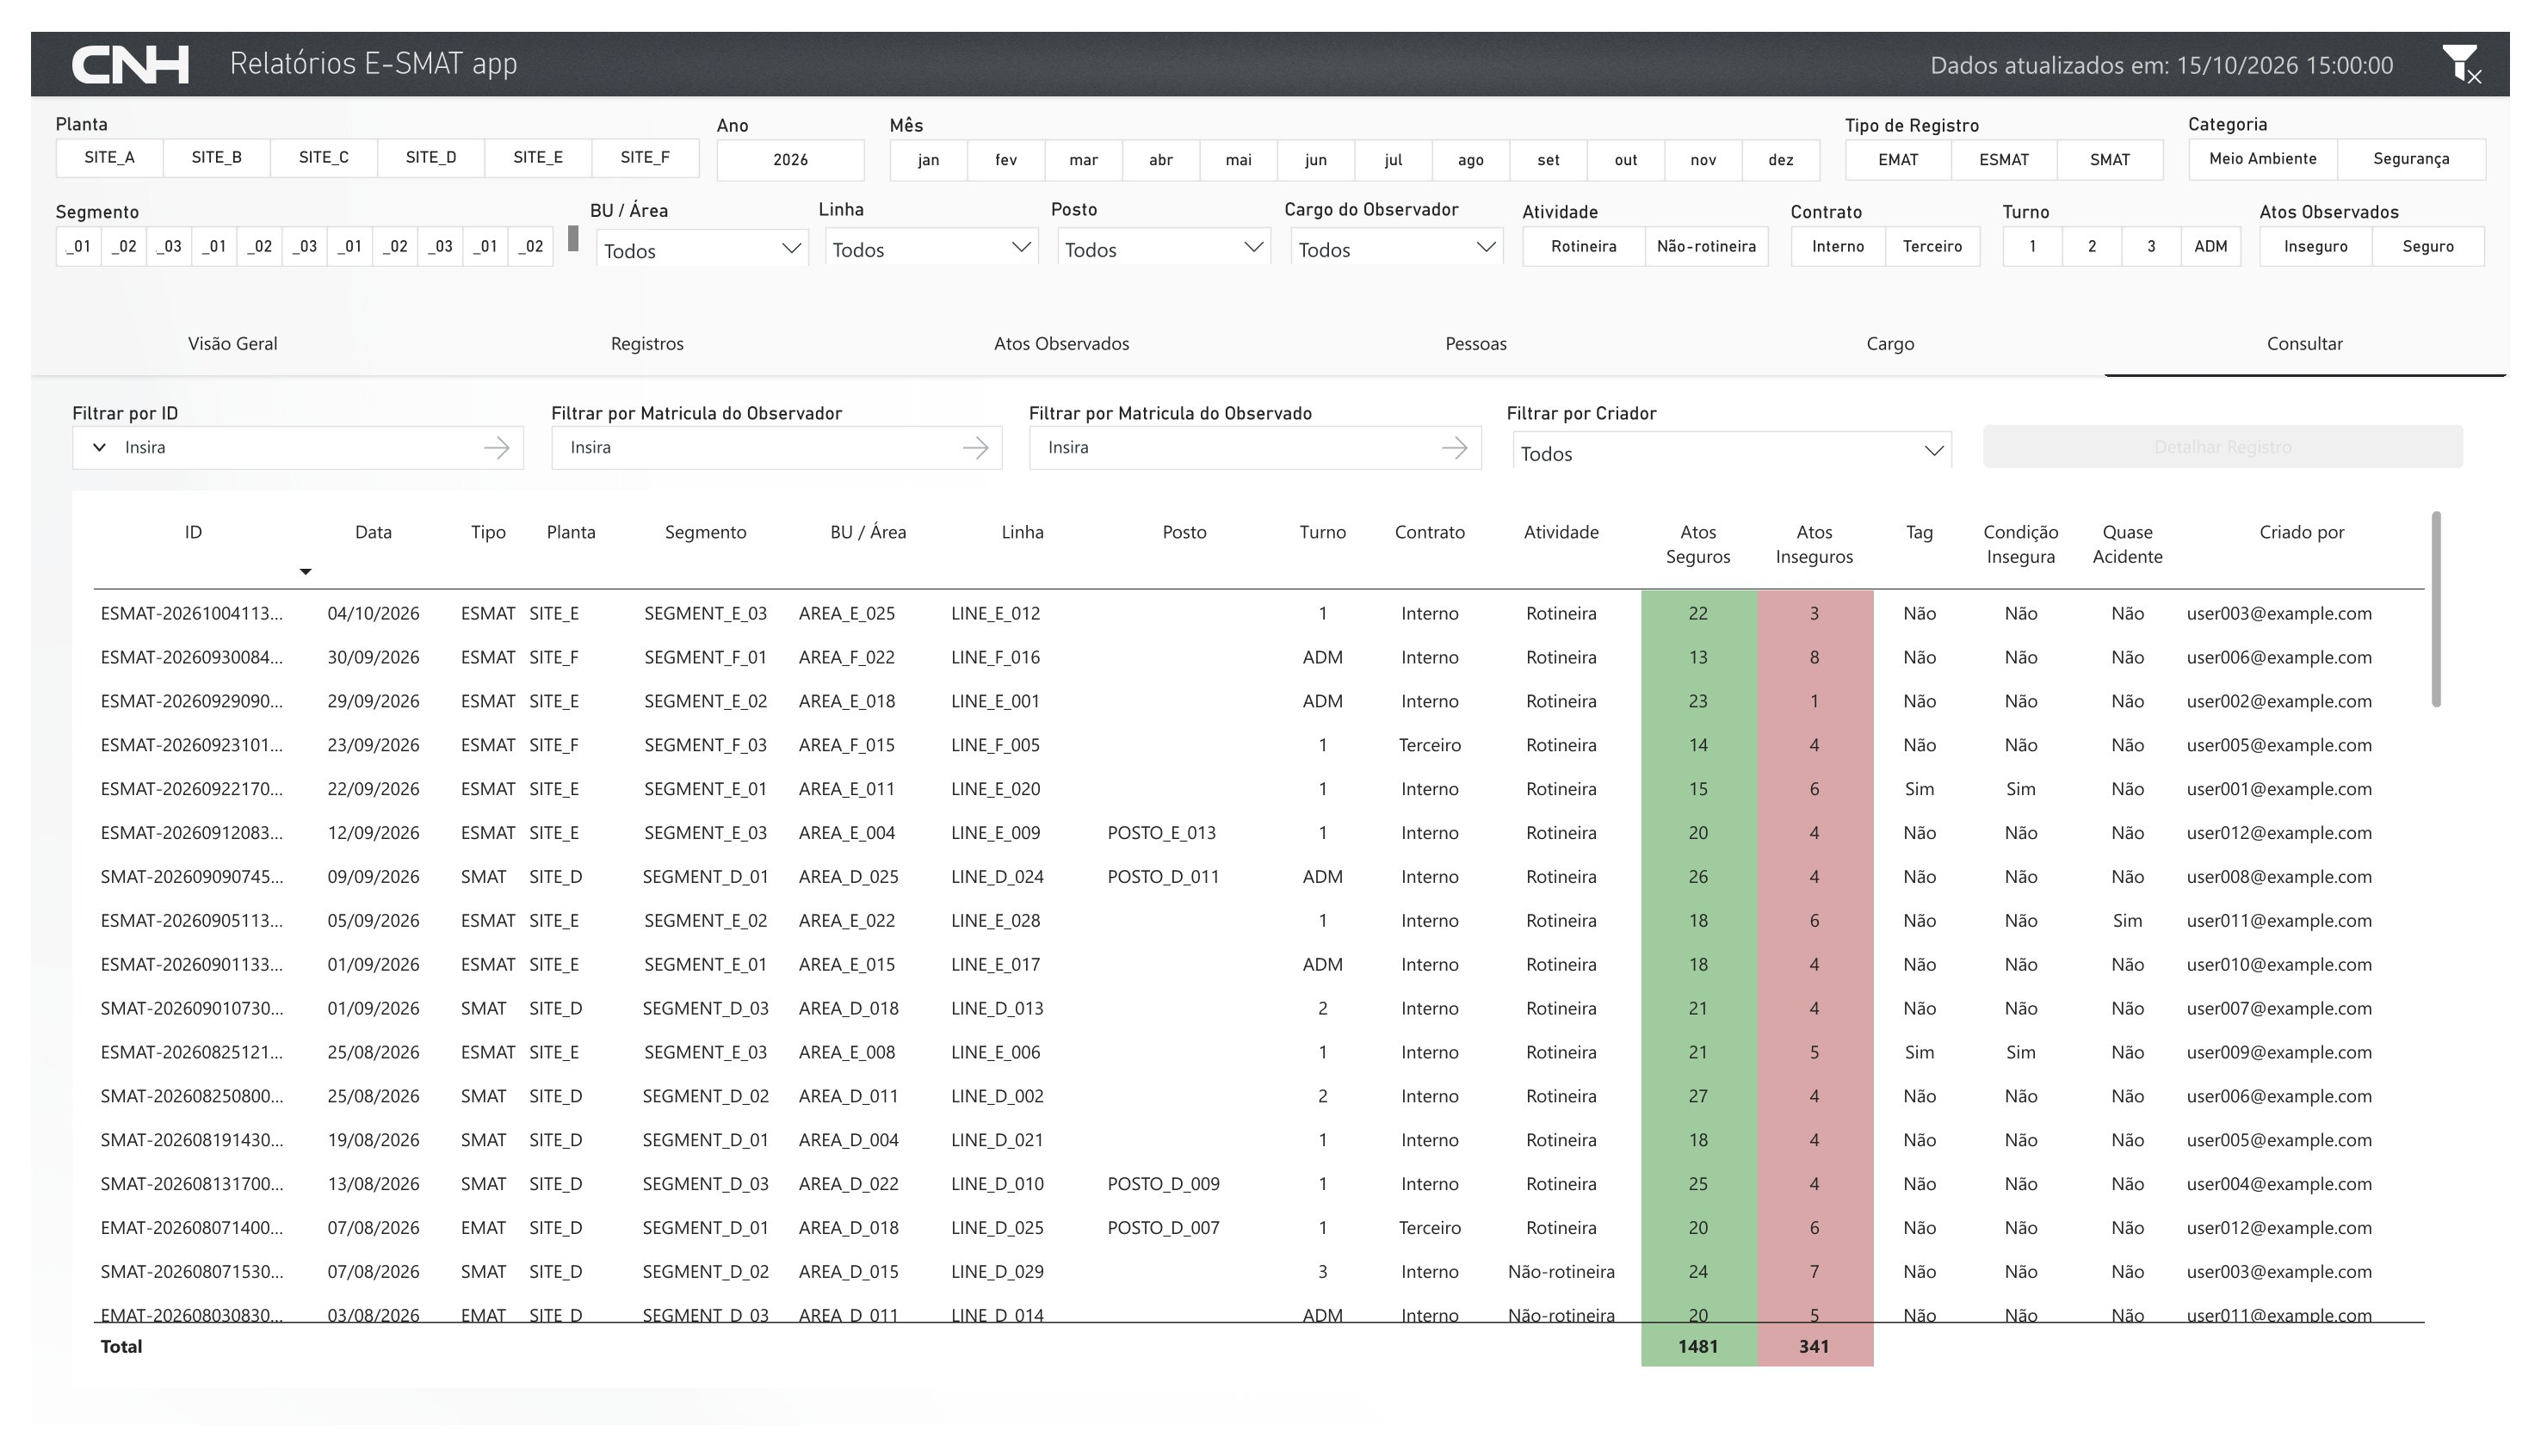

This screenshot's page, from the dashboard's own definition file:
{"tool":"powerbi","page":{"name":"Consultar","canvas":[1920,1080],"ordinal":5},"visuals":[{"type":"shape","box":[0,0,1920,266.7],"z":0},{"type":"tableEx","fields":{"Values":["d_cabecalho.Titulo","d_cabecalho.Data","d_cabecalho.Tipo","d_cabecalho.Planta","d_cabecalho.Segmento","d_cabecalho.BUarea","d_cabecalho.Linha","d_cabecalho.Posto","d_cabecalho.Turno","d_cabecalho.TipoContrato","d_cabecalho.TipoAtividade","Sum(f_formulario.SA_SafeAct)"]},"box":[32,356,1852,694.7],"z":1000},{"type":"image","box":[0,0,1920.6,50.5],"z":2000},{"type":"textbox","box":[154.3,11.4,300,38.6],"z":3000},{"type":"image","box":[1864.7,10.6,36.7,30],"z":4000},{"type":"image","box":[0,10.6,154.3,30.6],"z":5000},{"type":"advancedSlicerVisual","fields":{"Values":["d_cabecalho.Planta"]},"box":[18.6,63.8,504.1,50.5],"z":6000},{"type":"advancedSlicerVisual","fields":{"Values":["d_cabecalho.Ano"]},"box":[530.7,65.2,115,51.9],"z":7000},{"type":"advancedSlicerVisual","title":"Tipo de Registro","fields":{"Values":["d_cabecalho.TipoAuditoria"]},"box":[1405,65.2,248.7,50.5],"z":8000},{"type":"advancedSlicerVisual","title":"Mês","fields":{"Values":["d_calendario.nome_mes_abrev"]},"box":[665,65.3,732,52],"z":9000},{"type":"advancedSlicerVisual","title":"Categoria","fields":{"Values":["f_formulario.Tema"]},"box":[1671,64.2,231,51.4],"z":10000},{"type":"slicer","title":"BU / Área","fields":{"Values":["d_cabecalho.BUarea"]},"box":[433.3,130.7,174.7,51],"z":11000},{"type":"advancedSlicerVisual","title":"Segmento","fields":{"Values":["d_cabecalho.Segmento"]},"box":[18.8,131.6,405.7,51],"z":12000},{"type":"slicer","title":"Linha","fields":{"Values":["d_cabecalho.Linha"]},"box":[610,130,175.7,51.4],"z":13000},{"type":"slicer","title":"Posto","fields":{"Values":["d_cabecalho.Posto"]},"box":[790,130,175.7,51.4],"z":14000},{"type":"slicer","title":"Cargo do Observador","fields":{"Values":["d_cabecalho.Cargo"]},"box":[971.4,130,174.3,51.4],"z":15000},{"type":"textSlicer","title":"Filtrar por Matricula do Observador","fields":{"Values":["d_cabecalho.MatriculaObservador"]},"box":[402.7,288.3,350,52],"z":16000},{"type":"textSlicer","title":"Filtrar por Matricula do Observado","fields":{"Values":["d_lista_matriculas.Matricula"]},"box":[773.3,288.3,350.7,52],"z":17000},{"type":"advancedSlicerVisual","title":"Atividade","fields":{"Values":["d_cabecalho.TipoAtividade"]},"box":[1155.2,131.6,192.1,51],"z":18000},{"type":"textSlicer","title":"Filtrar por ID","fields":{"Values":["d_classificacao.Titulo"]},"box":[32,288,350,52],"z":19000},{"type":"actionButton","box":[1512,305,372,34],"z":20000},{"type":"advancedSlicerVisual","title":"Contrato","fields":{"Values":["d_cabecalho.TipoContrato"]},"box":[1363.4,131.6,147.8,51],"z":21000},{"type":"advancedSlicerVisual","title":"Atos Observados","fields":{"Values":["d_classificacao.Classificacao"]},"box":[1726.1,131.6,176,51],"z":22000},{"type":"pageNavigator","box":[0,217.3,1920,50.7],"z":23000},{"type":"advancedSlicerVisual","title":"Turno","fields":{"Values":["d_cabecalho.Turno"]},"box":[1527.3,131.6,185.4,51],"z":24000},{"type":"slicer","title":"Filtrar por Criador","fields":{"Values":["d_cabecalho.Author"]},"box":[1142.7,288,350.3,51.4],"z":25000},{"type":"cardVisual","fields":{"Data":["d_medidas.Ultima_Atualizacao"]},"box":[1268,16,578,18],"z":26000}]}

Visuals, with their boxes in screenshot pixels (x1, y1, x2, y2), scaled from the page's 1920x1080 canvas onto the 2541x1456 screenshot:
shape: x1=0 y1=0 x2=2540 y2=360
tableEx - d_cabecalho.Titulo x d_cabecalho.Data: x1=42 y1=480 x2=2494 y2=1416
image: x1=0 y1=0 x2=2540 y2=68
textbox: x1=204 y1=15 x2=601 y2=67
image: x1=2468 y1=15 x2=2516 y2=55
image: x1=0 y1=15 x2=204 y2=56
advancedSlicerVisual - d_cabecalho.Planta: x1=25 y1=86 x2=692 y2=154
advancedSlicerVisual - d_cabecalho.Ano: x1=702 y1=88 x2=855 y2=157
"Tipo de Registro" advancedSlicerVisual: x1=1859 y1=88 x2=2189 y2=156
"Mês" advancedSlicerVisual: x1=880 y1=88 x2=1849 y2=158
"Categoria" advancedSlicerVisual: x1=2211 y1=87 x2=2517 y2=156
"BU / Área" slicer: x1=573 y1=176 x2=805 y2=245
"Segmento" advancedSlicerVisual: x1=25 y1=177 x2=562 y2=246
"Linha" slicer: x1=807 y1=176 x2=1040 y2=244
"Posto" slicer: x1=1046 y1=176 x2=1278 y2=244
"Cargo do Observador" slicer: x1=1286 y1=176 x2=1517 y2=244
"Filtrar por Matricula do Observador" textSlicer: x1=533 y1=389 x2=996 y2=459
"Filtrar por Matricula do Observado" textSlicer: x1=1023 y1=389 x2=1487 y2=459
"Atividade" advancedSlicerVisual: x1=1529 y1=177 x2=1783 y2=246
"Filtrar por ID" textSlicer: x1=42 y1=388 x2=505 y2=459
actionButton: x1=2001 y1=411 x2=2494 y2=457
"Contrato" advancedSlicerVisual: x1=1804 y1=177 x2=2000 y2=246
"Atos Observados" advancedSlicerVisual: x1=2284 y1=177 x2=2517 y2=246
pageNavigator: x1=0 y1=293 x2=2540 y2=361
"Turno" advancedSlicerVisual: x1=2021 y1=177 x2=2266 y2=246
"Filtrar por Criador" slicer: x1=1512 y1=388 x2=1975 y2=458
cardVisual - d_medidas.Ultima_Atualizacao: x1=1679 y1=22 x2=2443 y2=46
